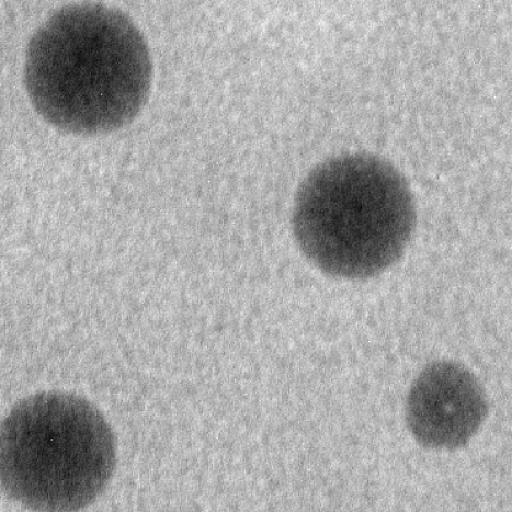Nanoparticles: (288, 142, 422, 285), (23, 2, 154, 132), (1, 390, 119, 508), (402, 358, 490, 452)
